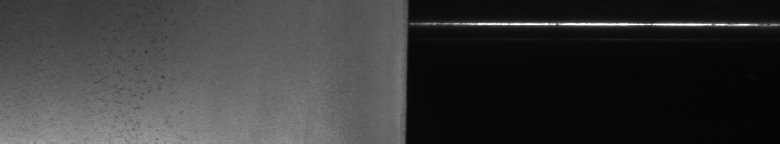ib: (91, 40, 171, 136)
